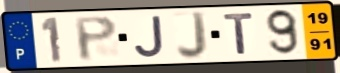1: (40, 15, 64, 65)
9: (264, 8, 301, 57)
J: (175, 9, 209, 61), (133, 15, 166, 60)
P: (72, 14, 120, 63)
T: (222, 11, 256, 56)
